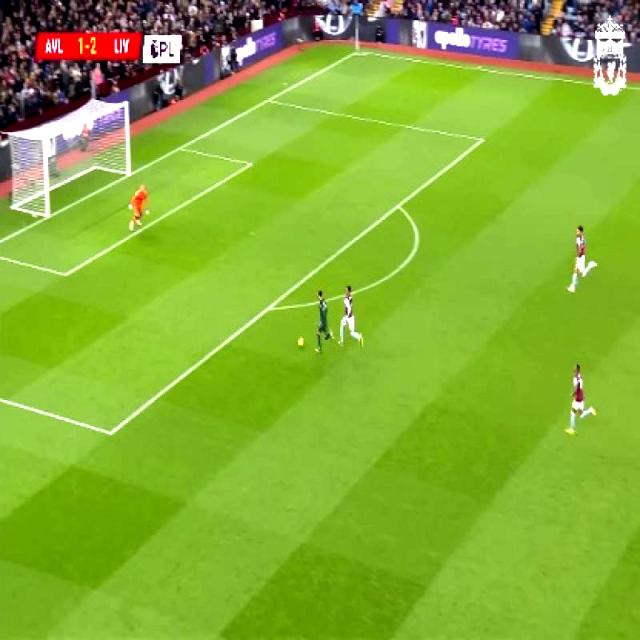bigarea_bottom_inner: (102, 420, 118, 443)
bigarea_top_inner: (474, 129, 489, 149)
bigarea_top_outter: (261, 90, 276, 108)
bottom_arc_area_intersection: (260, 295, 275, 317)
corner: (349, 44, 368, 58)
smallarea_bottom_inner: (56, 260, 74, 286)
smallarea_top_inner: (242, 152, 258, 172)
smallarea_top_outter: (170, 138, 188, 157)
top_arc_area_intersection: (389, 194, 406, 214)
